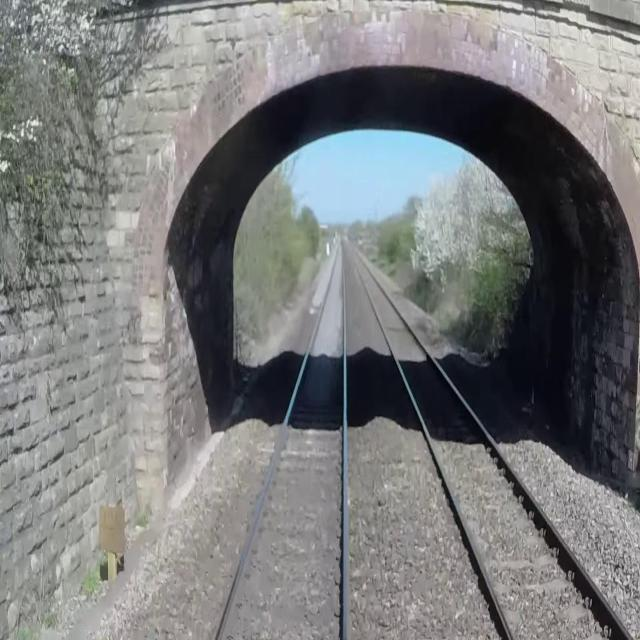rail-track: (351, 249, 626, 639), (220, 243, 344, 639)
